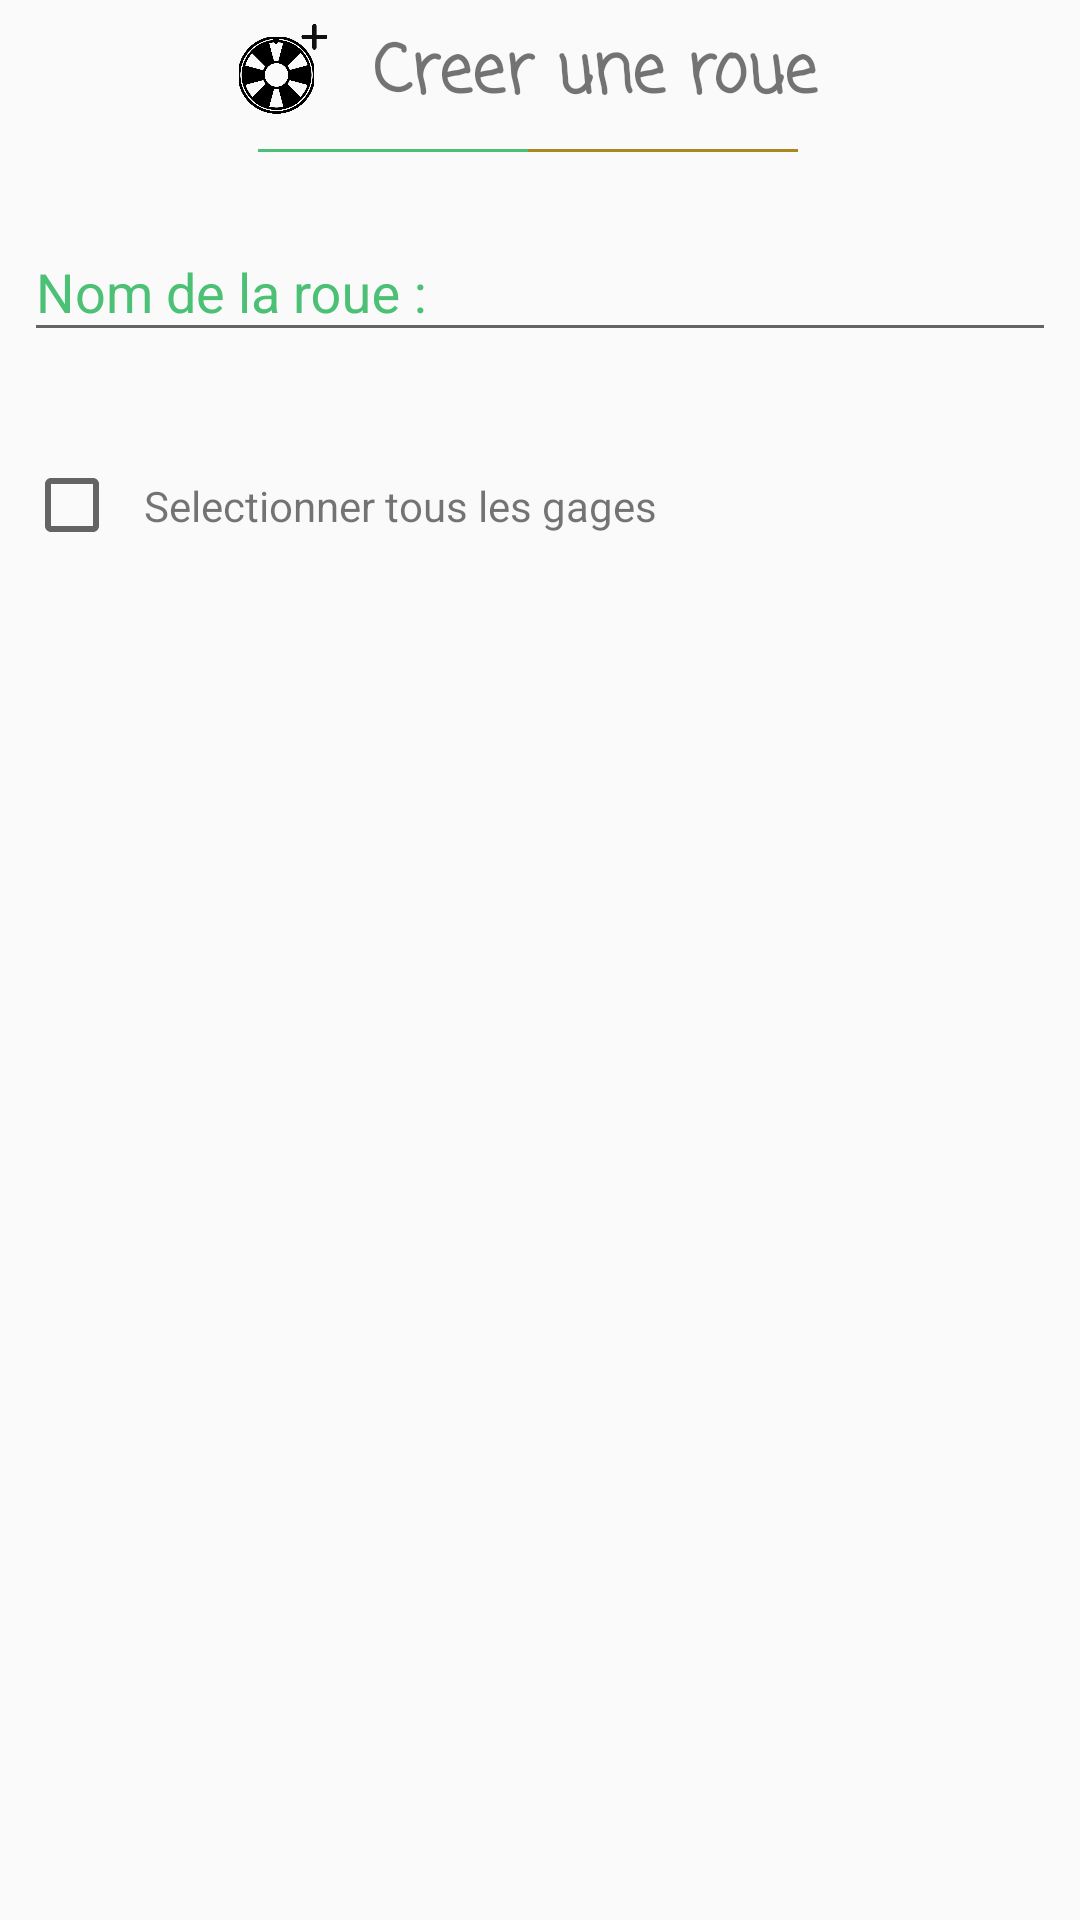

Point at icon controls on the screen. Image size 1080w x 1920h, points as (x,y).
add wheel: (283,69)
